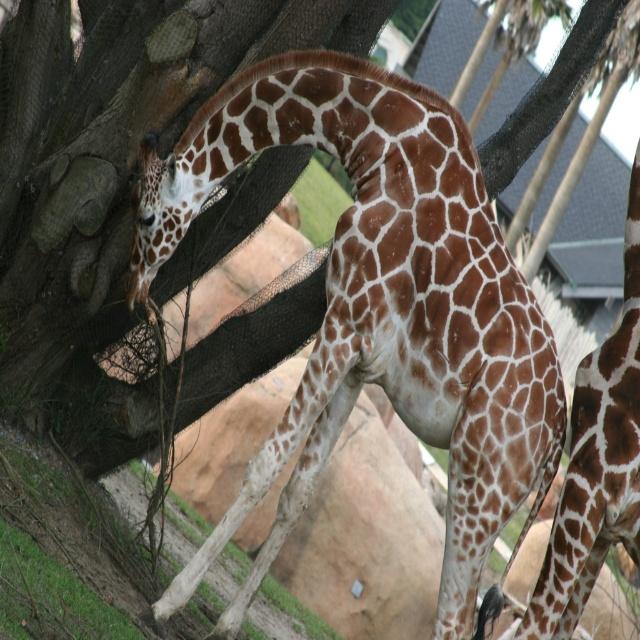Giraffe: (161, 44, 602, 640)
